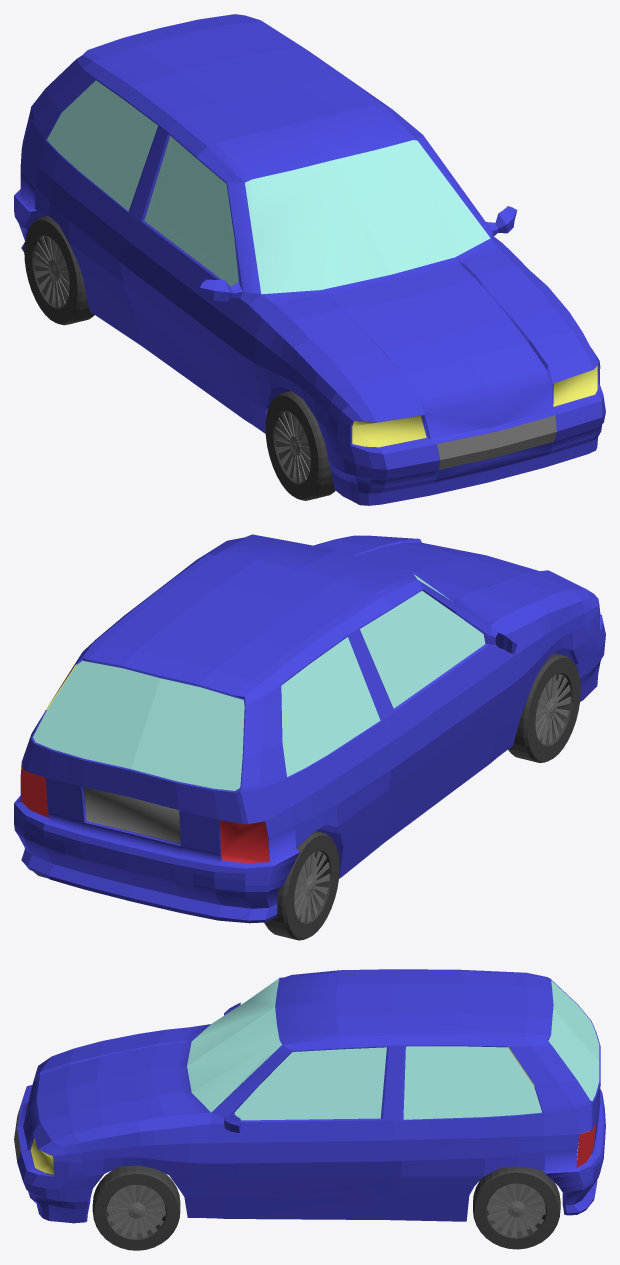
The picture shows the model from 3 angles, top to bottom: view 1: azimuth 30°, elevation 25°; view 2: azimuth 150°, elevation 25°; view 3: azimuth 270°, elevation 25°; orthographic projection. The views are drawn at different scales.
Parts seen in each view (by area): view 1: LowPolyFiatUNO:Mesh; view 2: LowPolyFiatUNO:Mesh; view 3: LowPolyFiatUNO:Mesh.
Part boxes in pixels (x1,y1,x2,y2): LowPolyFiatUNO:Mesh: [14, 14, 605, 505]; LowPolyFiatUNO:Mesh: [14, 534, 605, 940]; LowPolyFiatUNO:Mesh: [14, 969, 605, 1250].
Bounding box in the file's own units: 378 × 290 × 770.
